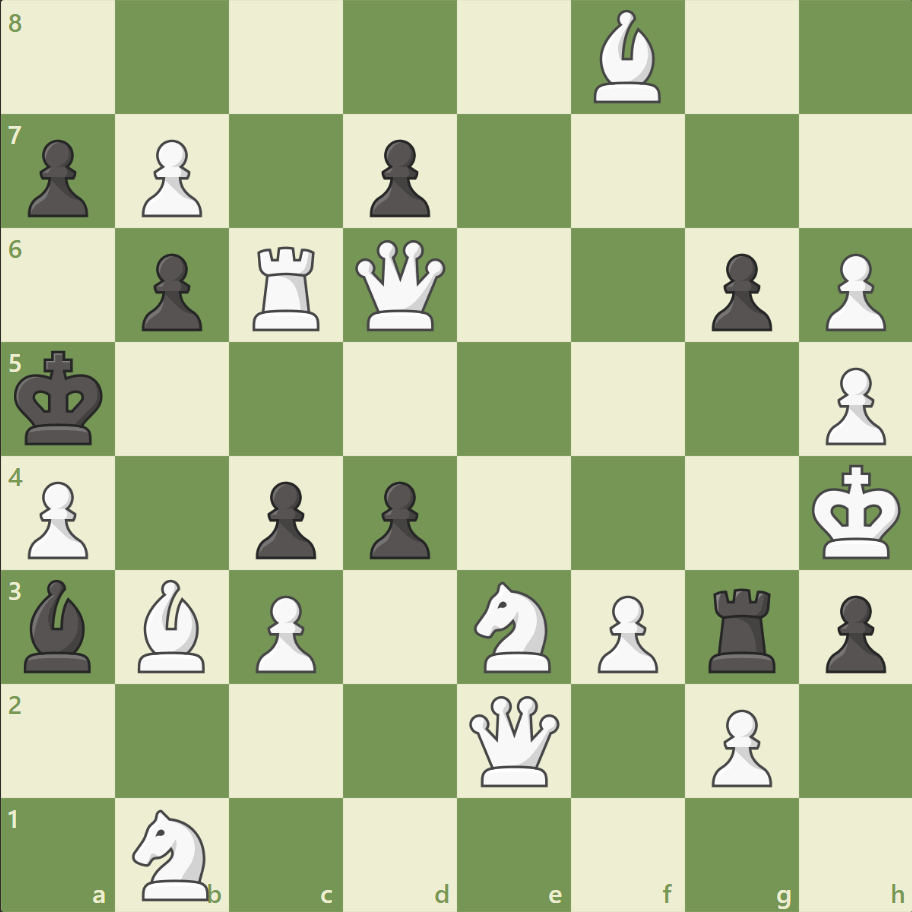B: (585, 6, 669, 109), (131, 574, 215, 676)
K: (806, 458, 906, 566)
N: (124, 802, 222, 904), (465, 575, 562, 677)
P: (133, 132, 208, 223), (20, 473, 95, 564), (247, 586, 322, 677), (701, 700, 776, 791), (815, 246, 889, 337), (815, 359, 889, 450), (588, 586, 662, 677)
Q: (351, 236, 450, 335), (464, 690, 563, 789)
R: (246, 239, 329, 336)
b: (17, 574, 101, 676)
k: (11, 344, 111, 452)
p: (20, 132, 95, 223), (133, 246, 208, 337), (701, 246, 776, 337), (247, 473, 322, 564), (361, 132, 435, 223), (361, 473, 435, 564), (815, 586, 889, 677)
r: (700, 579, 783, 676)
